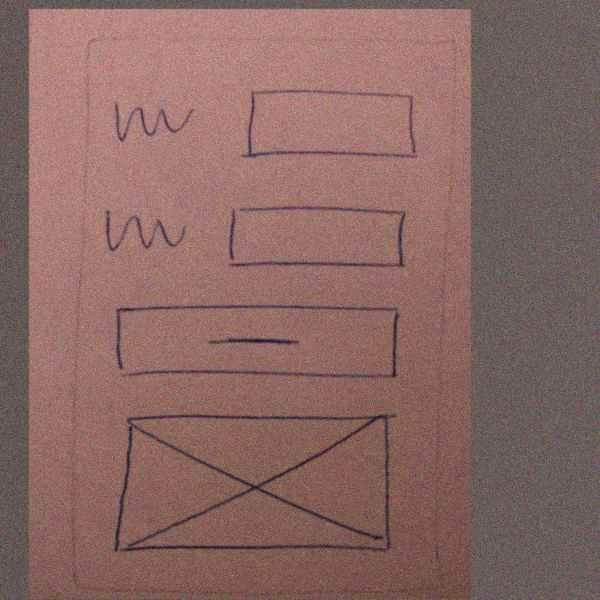button: (101, 295, 405, 387)
image: (102, 406, 405, 567)
text: (105, 88, 203, 153), (97, 202, 191, 261)
text_input: (233, 82, 433, 169), (217, 196, 421, 281)
